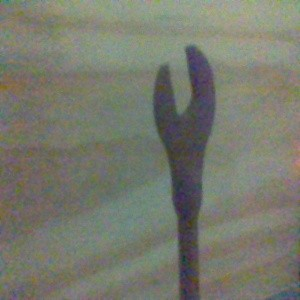spanner: (152, 44, 216, 300)
